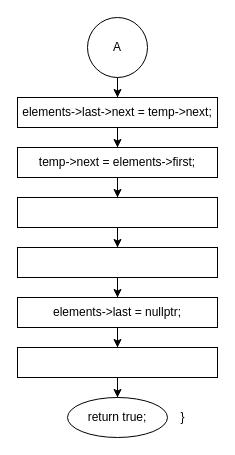
The diagram is 235 pixels wide and 455 high, and some of its shapes have lost their labels. The centre of each missing label's shape, as x and y in pixels:
"elements->first = nullptr;" goes at pixel 117 262.
"elements->size = 0;" goes at pixel 117 362.
"list->size += elements->size;" goes at pixel 117 212.
